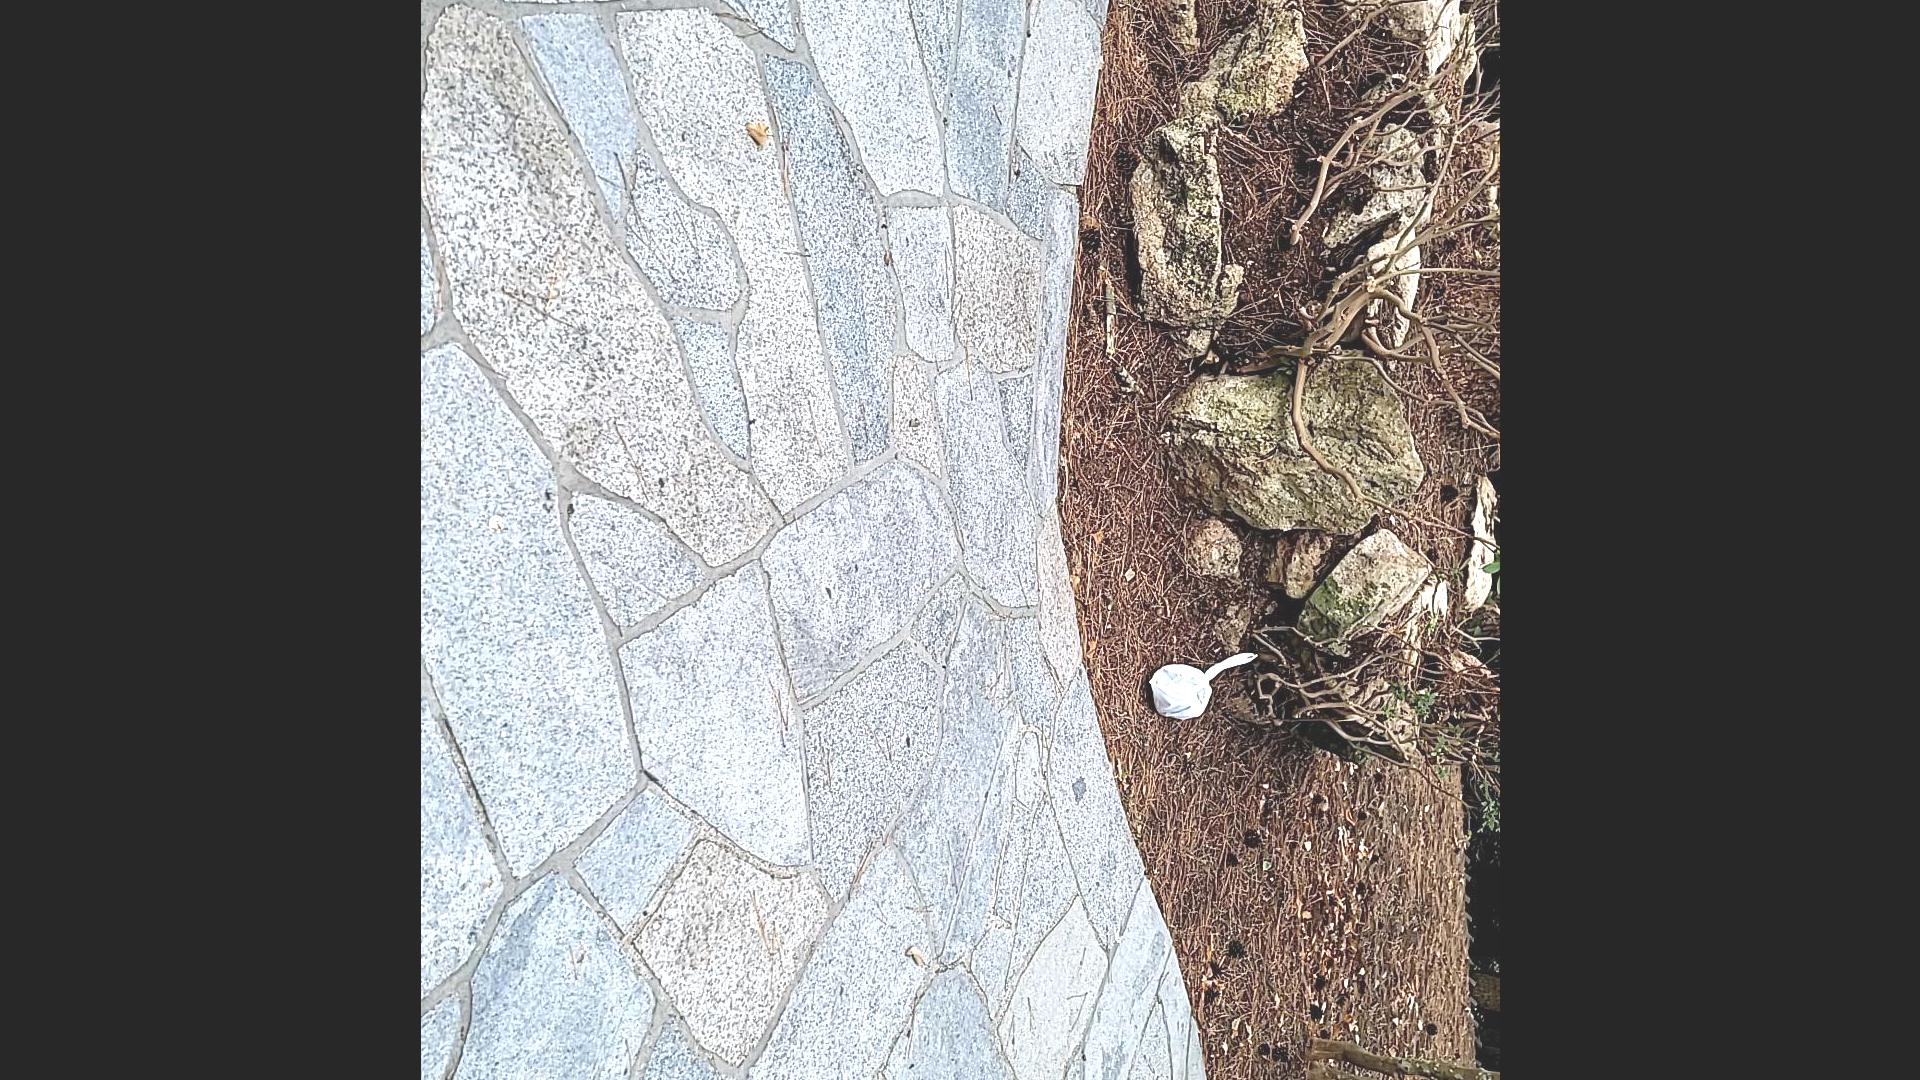white_bag: (1145, 647, 1263, 725)
